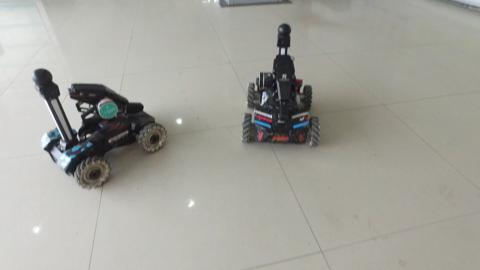chariot: (26, 65, 169, 190), (237, 20, 321, 151)
